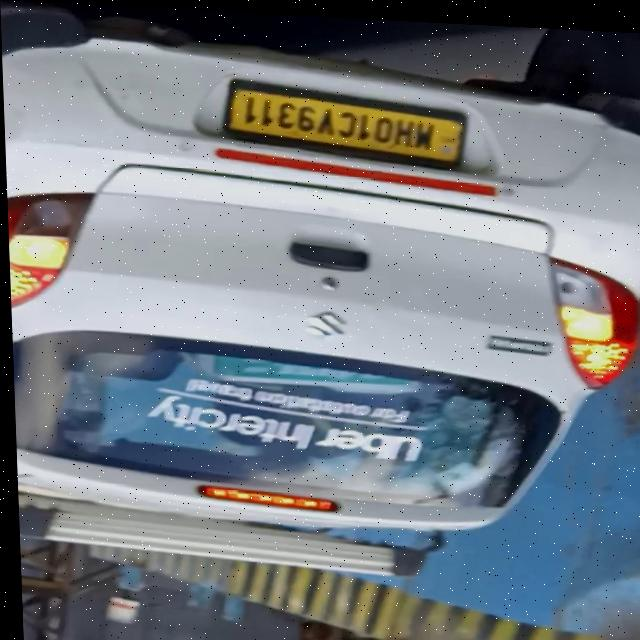plate: (212, 71, 471, 172)
